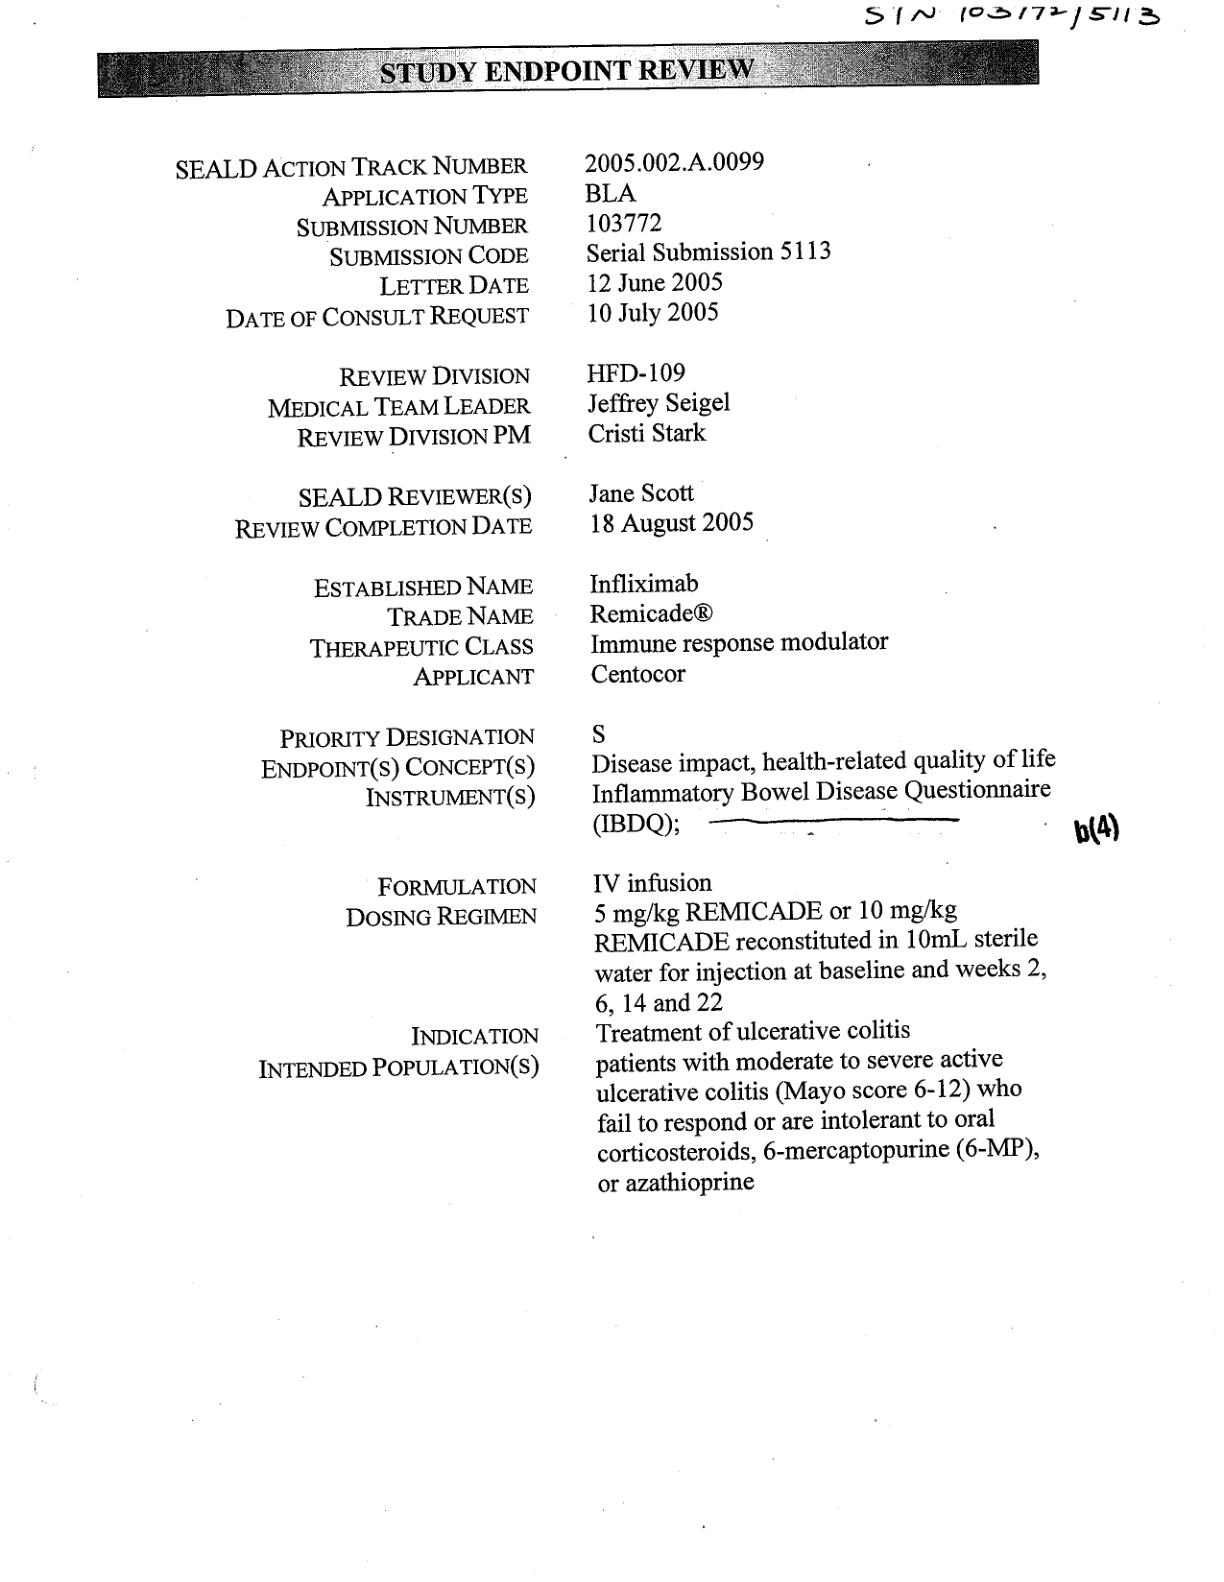nolines: (172, 148, 1056, 1201)
